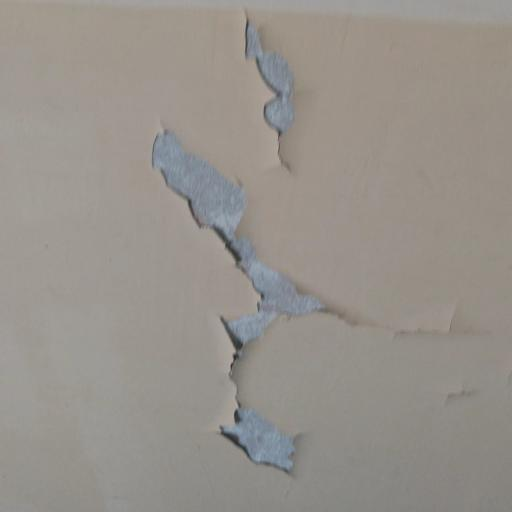peeling: (141, 0, 370, 512)
